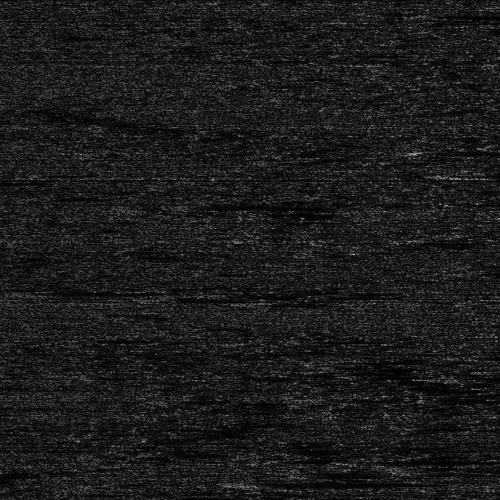rock: (0, 287, 68, 294), (423, 171, 486, 178), (423, 374, 486, 381), (222, 478, 275, 485), (406, 148, 459, 153), (190, 202, 221, 207)
shadow: (249, 478, 421, 485), (32, 287, 144, 294), (206, 202, 360, 207), (433, 148, 500, 153), (455, 171, 500, 178), (455, 374, 500, 381)
